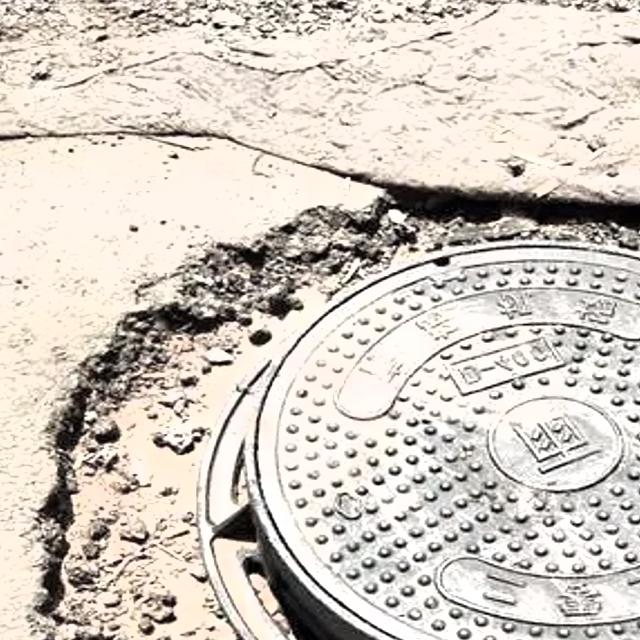circle: (44, 196, 640, 640)
